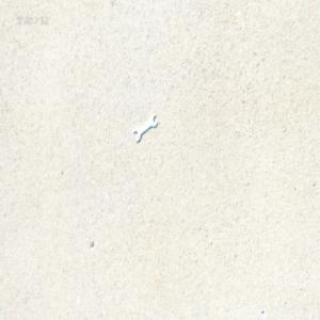Wrenchtrack_idkeyframe: (132, 113, 156, 143)
